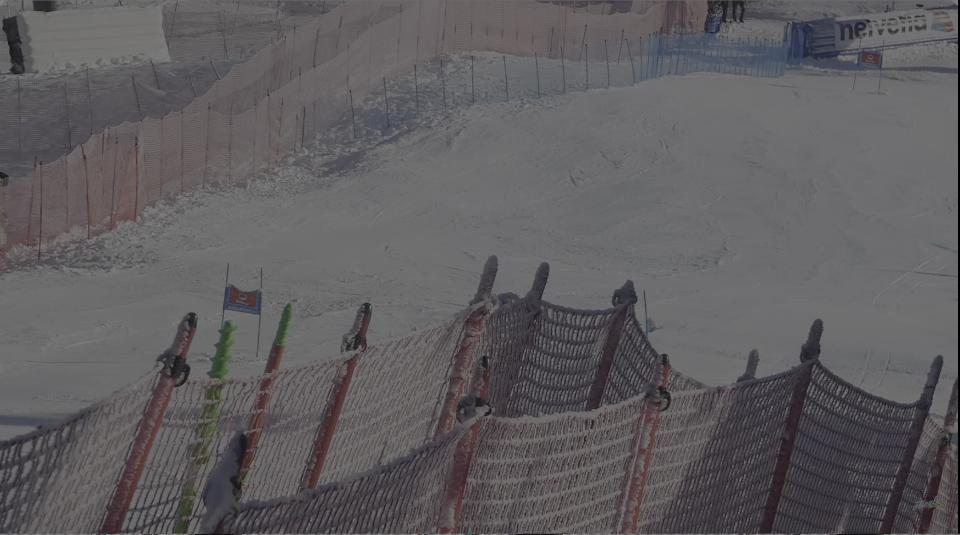gate: (247, 257, 271, 361), (218, 248, 235, 322)
